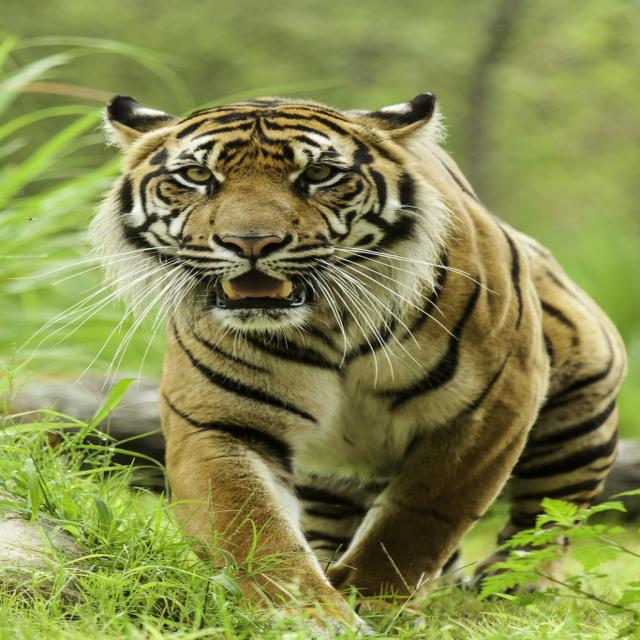Tiger: (5, 88, 627, 640)
